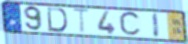4: (96, 10, 117, 36)
9: (23, 5, 44, 32)
C: (118, 10, 142, 38)
D: (46, 7, 69, 33)
I: (152, 12, 161, 39)
T: (72, 7, 92, 35)
